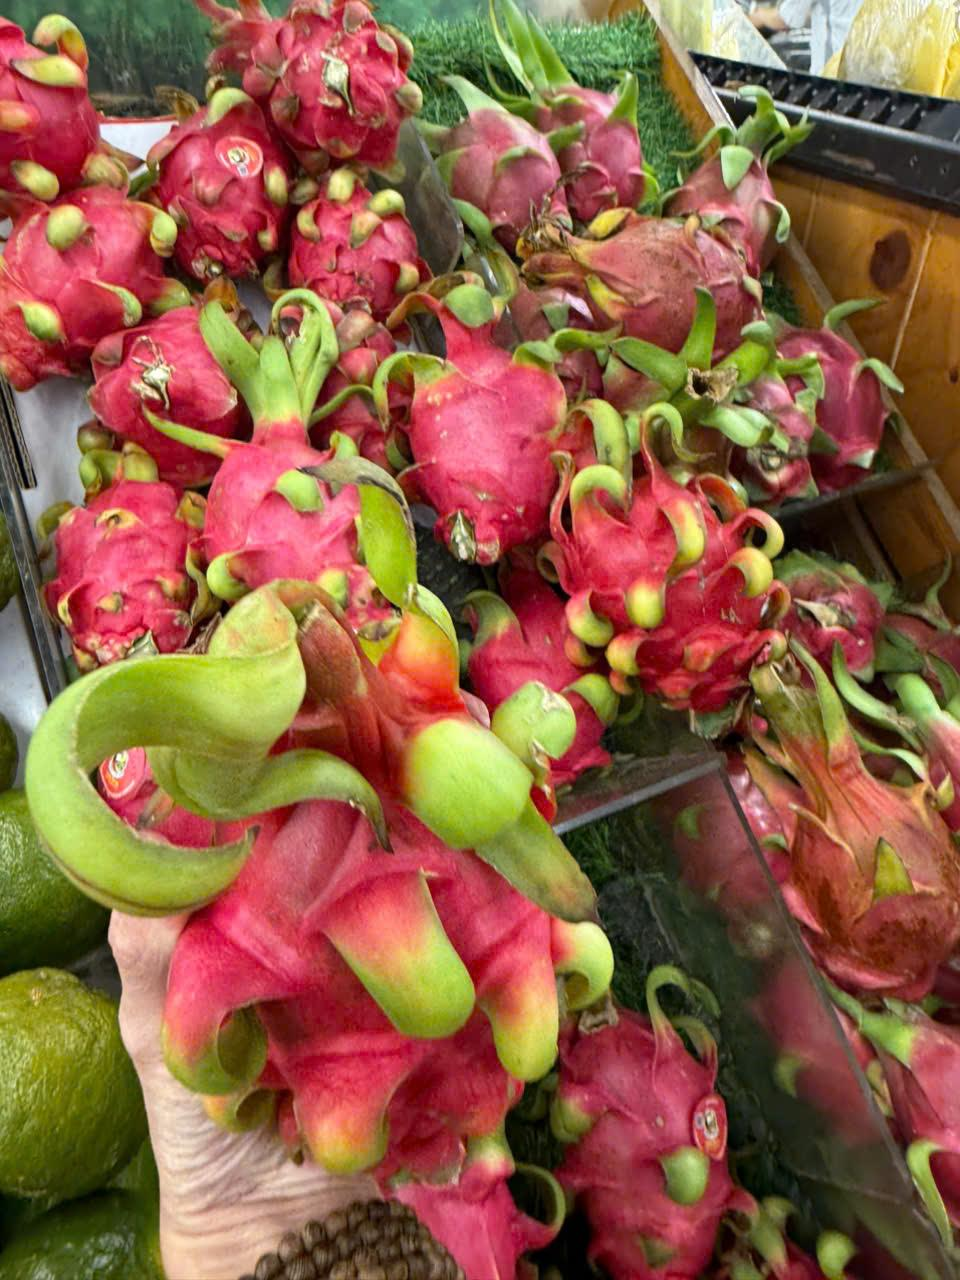dragon fruit: (170, 616, 568, 1176), (150, 300, 414, 606), (555, 403, 780, 728), (760, 658, 960, 984), (568, 976, 750, 1280), (412, 256, 572, 552), (37, 428, 212, 660), (200, 0, 427, 157), (482, 576, 624, 794), (565, 190, 760, 340), (10, 175, 182, 336), (160, 93, 284, 290), (100, 316, 240, 472), (285, 166, 414, 318), (0, 18, 92, 208)
